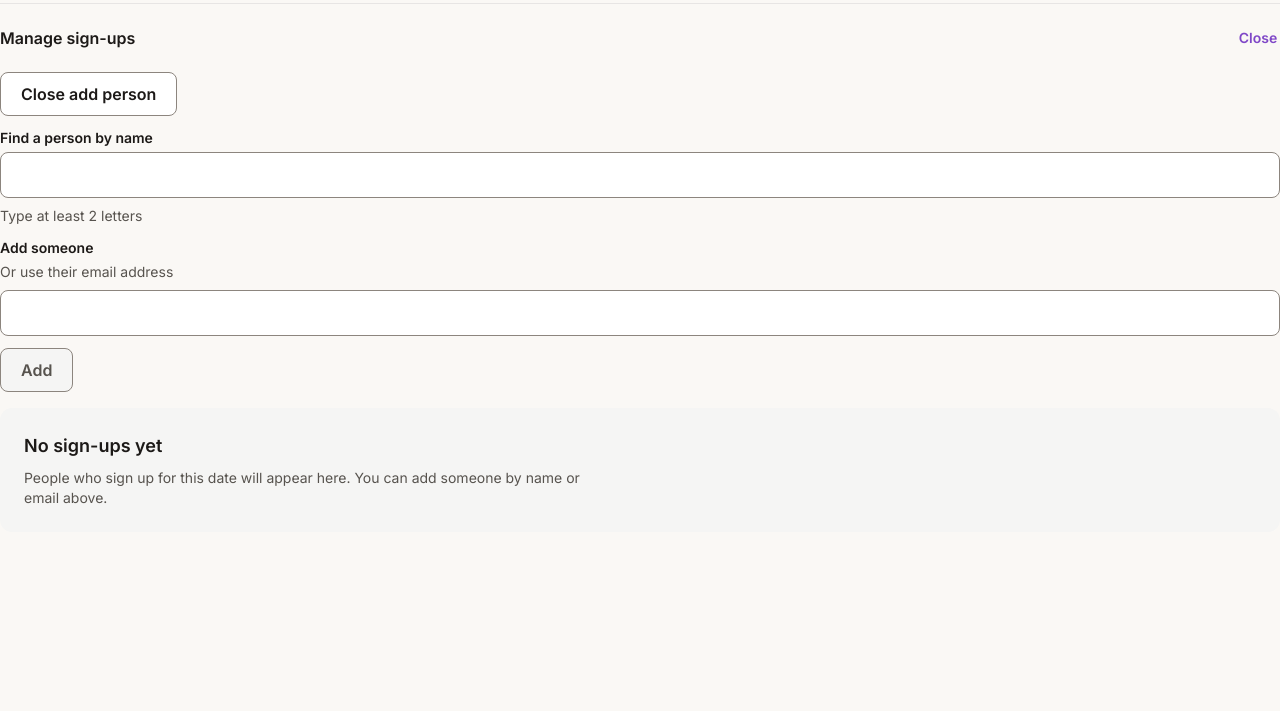
Test: offers an explicit adult ask only after approval-needed, preserving the selected token and confirmed override
Type "Pat" into the dropdown.
click(640, 175); type("Pat")  # box [0,152,1279,198]
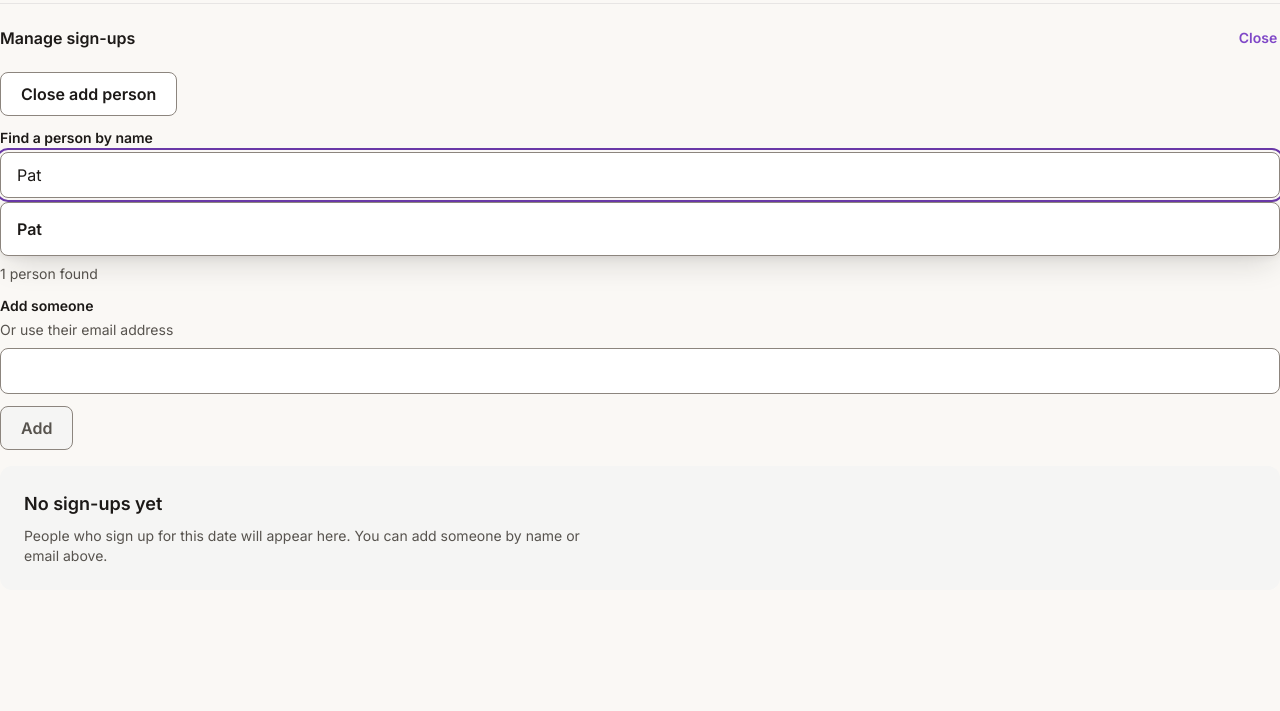
Click the option "Pat".
click(30, 229)  # box [17,219,42,239]
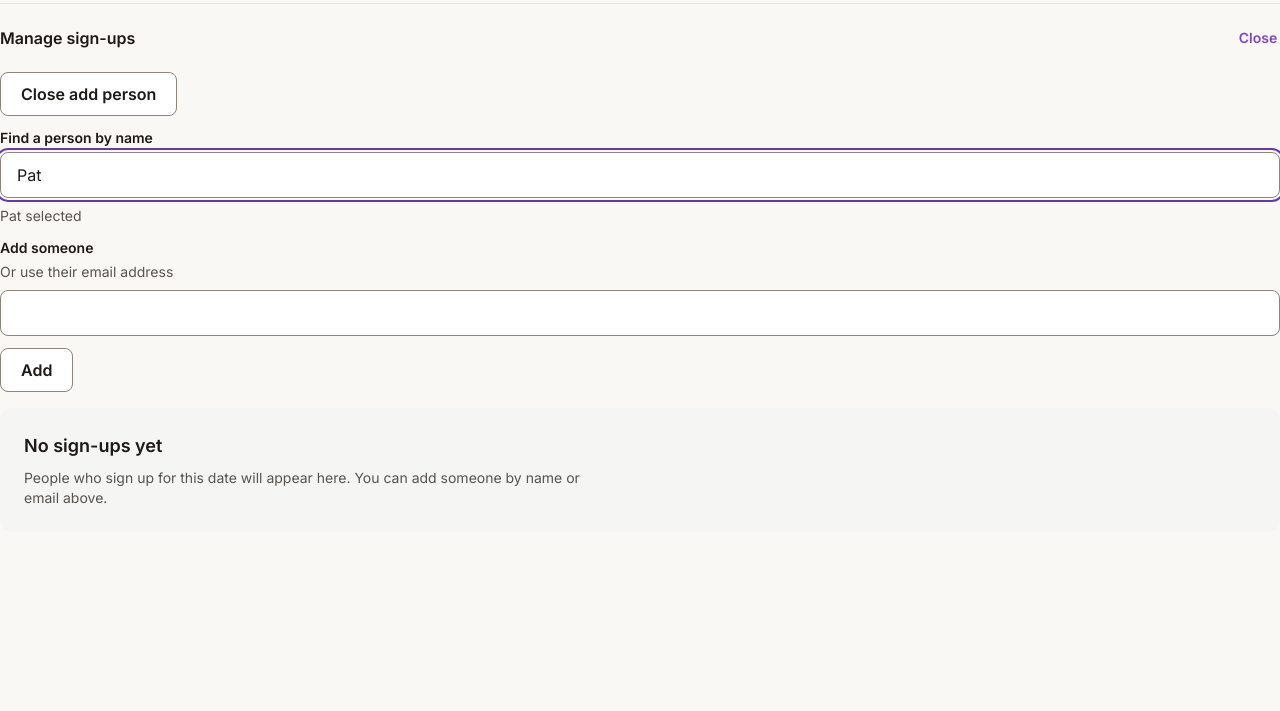
Click the button "Add".
click(37, 370)  # box [0,348,73,392]
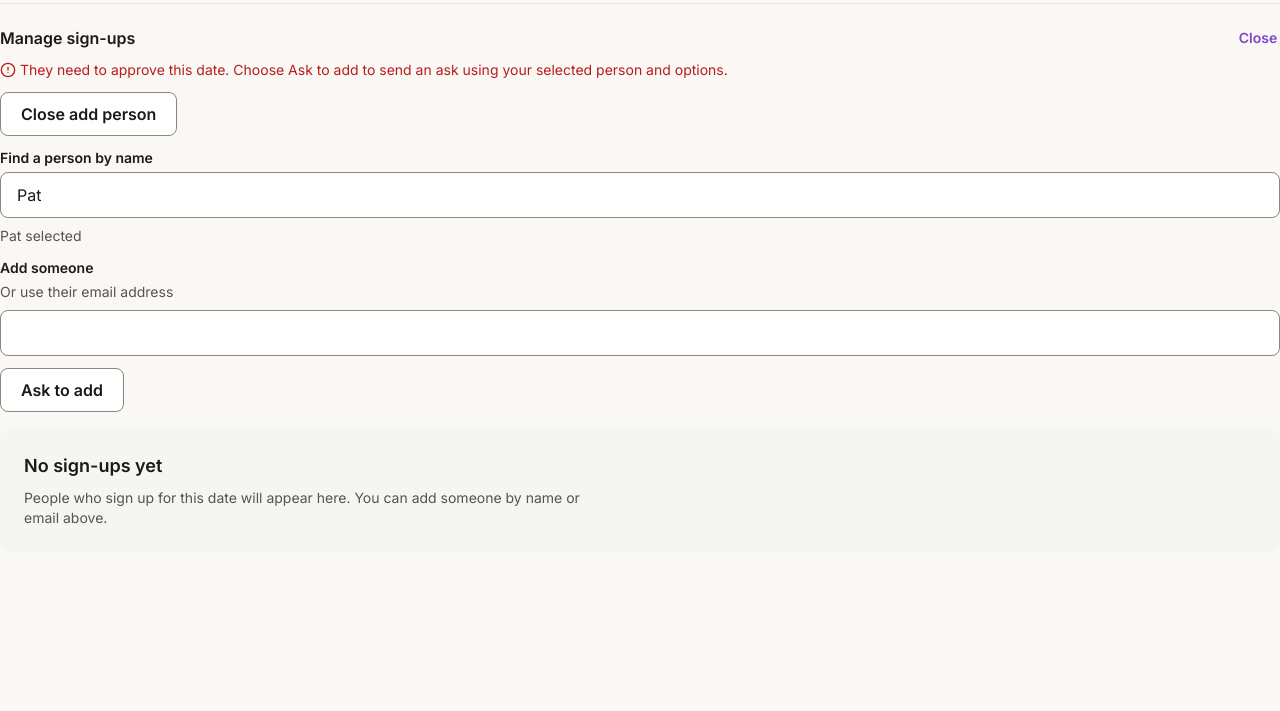
Expected: the button "Send ask to add" is not shown
Click the button "Ask to add".
click(62, 390)  # box [0,368,124,412]
(page scrolled)
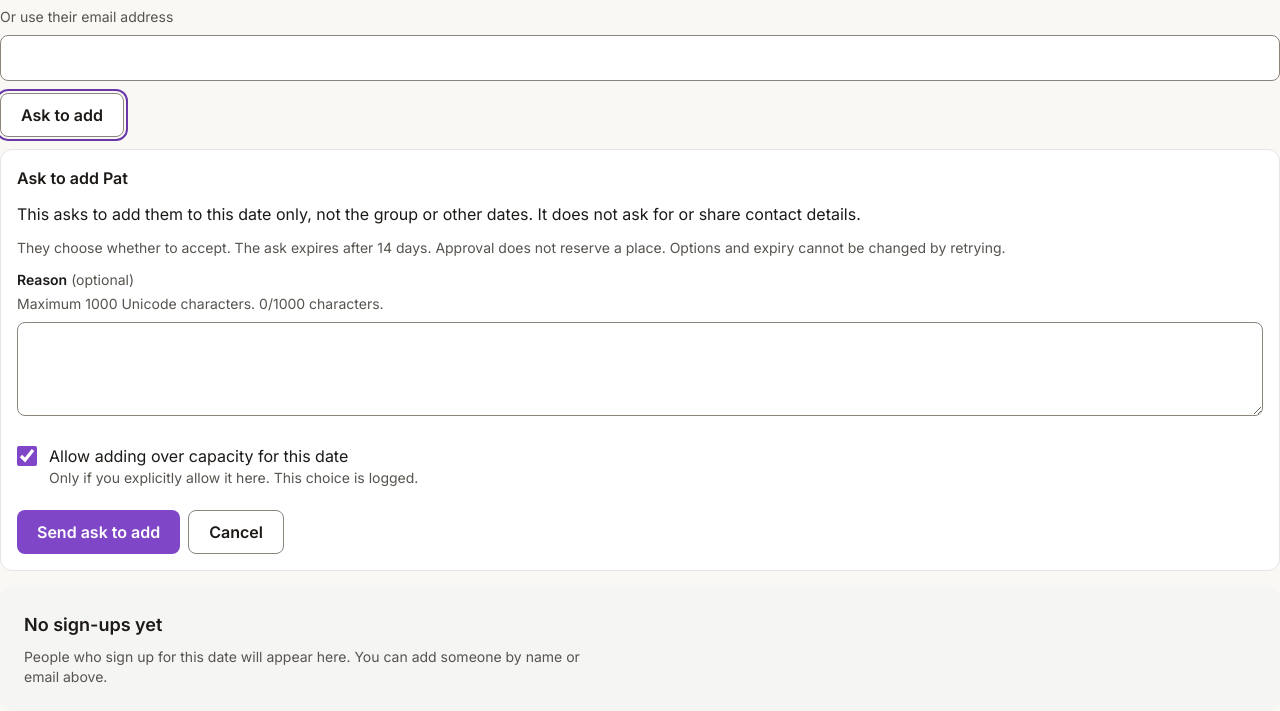
Now the checkbox labelled "Allow adding over capacity" is checked, box [17,446,37,466]
Now the button "Send ask to add" is shown, box [17,510,180,554]
